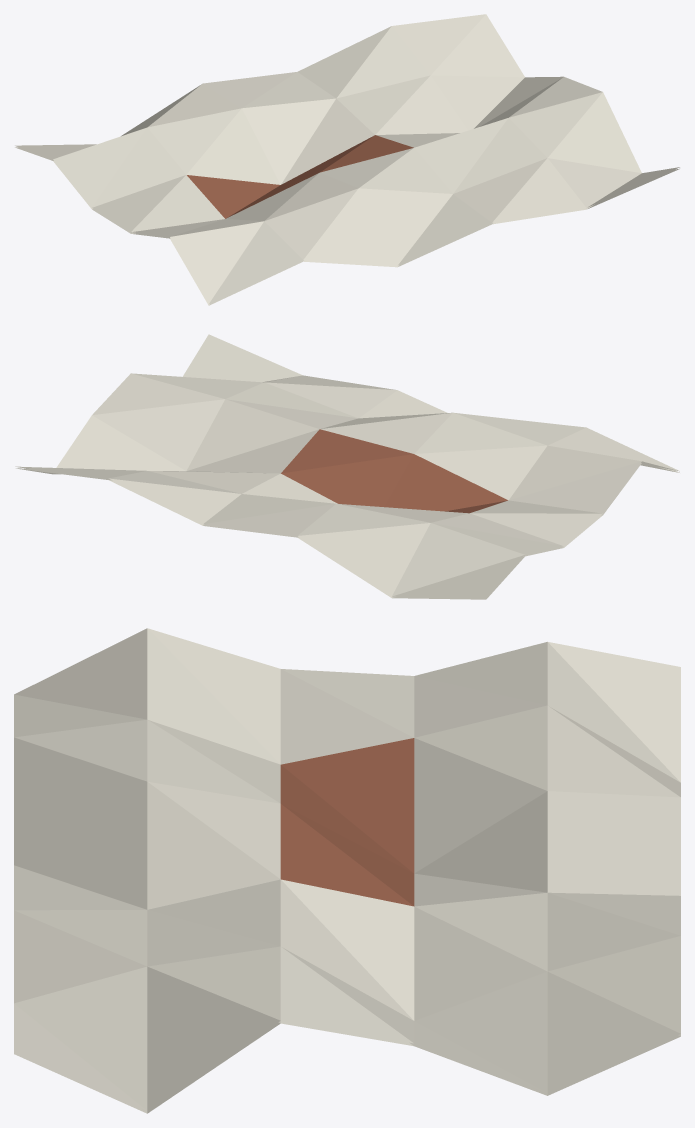
The model's file is b16_crumpled_food_wrapper.glb.
3 views of the same model, one above another, from view 1: azimuth 30°, elevation 25°; view 2: azimuth 150°, elevation 25°; view 3: azimuth 270°, elevation 25° (orthographic). The views are drawn at different scales.
Parts seen in each view (by area): view 1: b16_crumpled_food_wrapper; view 2: b16_crumpled_food_wrapper; view 3: b16_crumpled_food_wrapper.
Boxes of the visible parts, x1=… form: b16_crumpled_food_wrapper: x1=15, y1=14, x2=679, y2=305; b16_crumpled_food_wrapper: x1=15, y1=334, x2=679, y2=599; b16_crumpled_food_wrapper: x1=14, y1=628, x2=680, y2=1113.
Size of the model in its own units: 0.21 by 0.0246 by 0.15.
